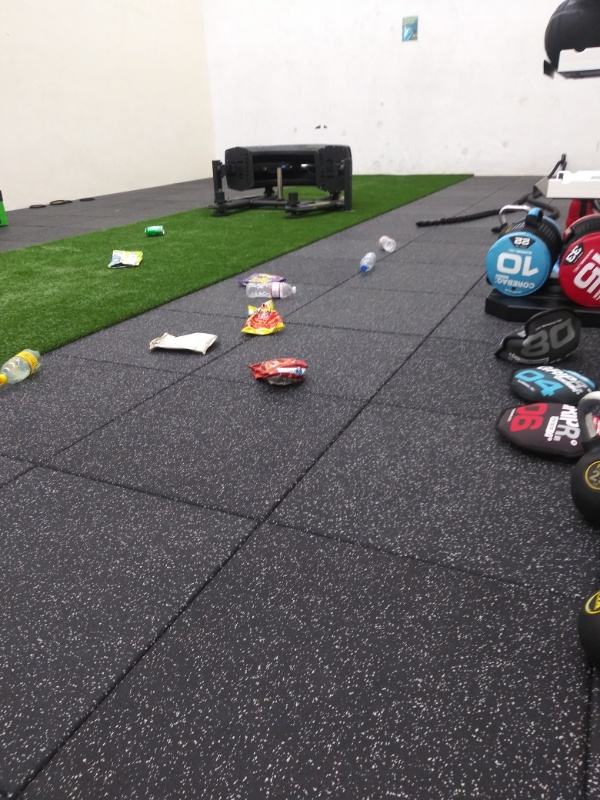bag: (245, 353, 314, 388), (144, 328, 223, 358), (234, 298, 288, 339), (234, 270, 291, 288), (103, 247, 147, 270)
bottle: (1, 343, 46, 394), (241, 279, 297, 307), (355, 249, 382, 277), (376, 233, 401, 259)
can: (144, 221, 167, 238)
